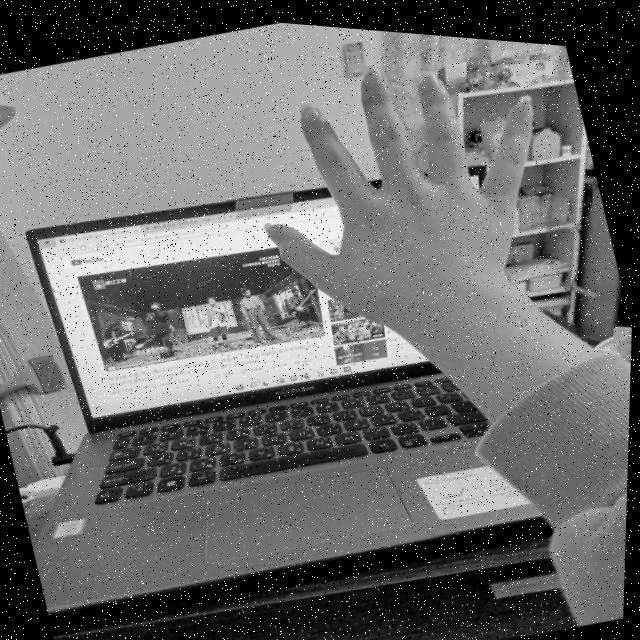hand: (222, 15, 586, 365)
